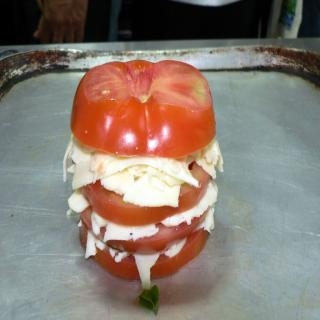tomato: (62, 62, 221, 272)
